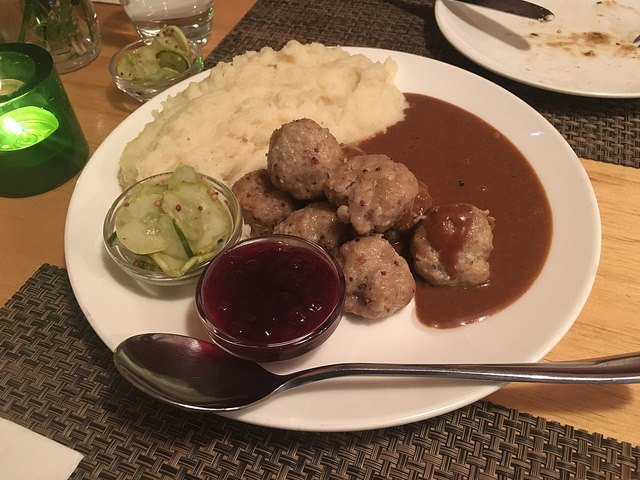boiled potatoes: (169, 81, 258, 165)
meatballs: (316, 154, 414, 225), (266, 121, 351, 200), (422, 215, 500, 283), (335, 229, 405, 297), (242, 181, 334, 225)
